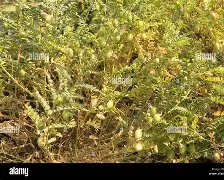crops: (0, 0, 220, 159)
